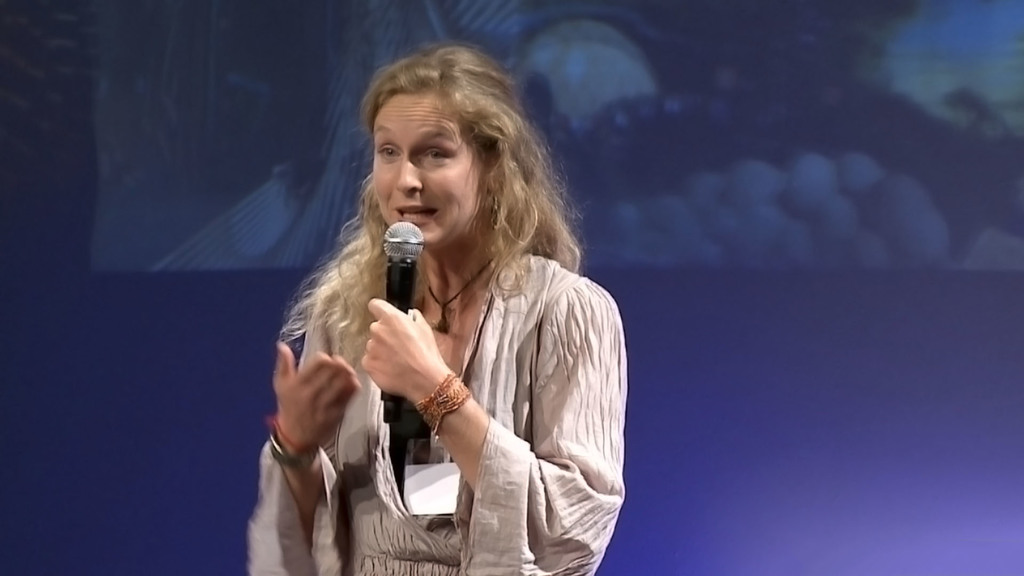Human-face: (376, 95, 488, 247)
